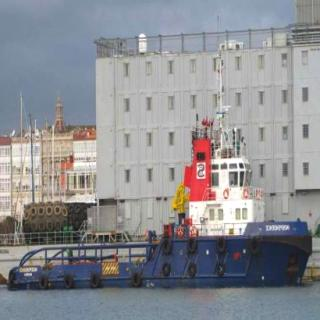Tug Boat: (3, 31, 320, 288)
